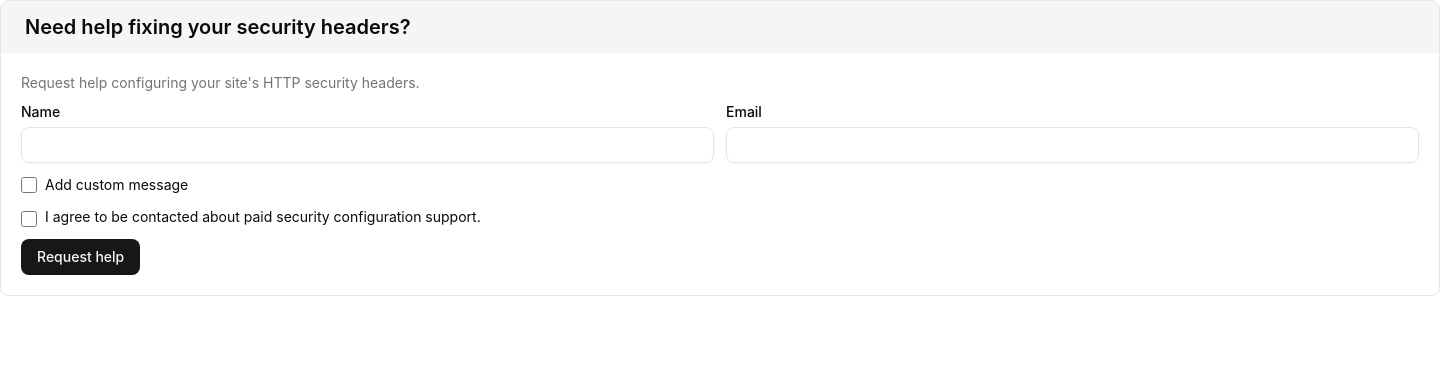
Test: LeadForm › shows field-specific errors for required name, email, and consent
The image size is (1440, 369).
Click the button "Request help".
click(81, 257)  # box [21,239,140,275]
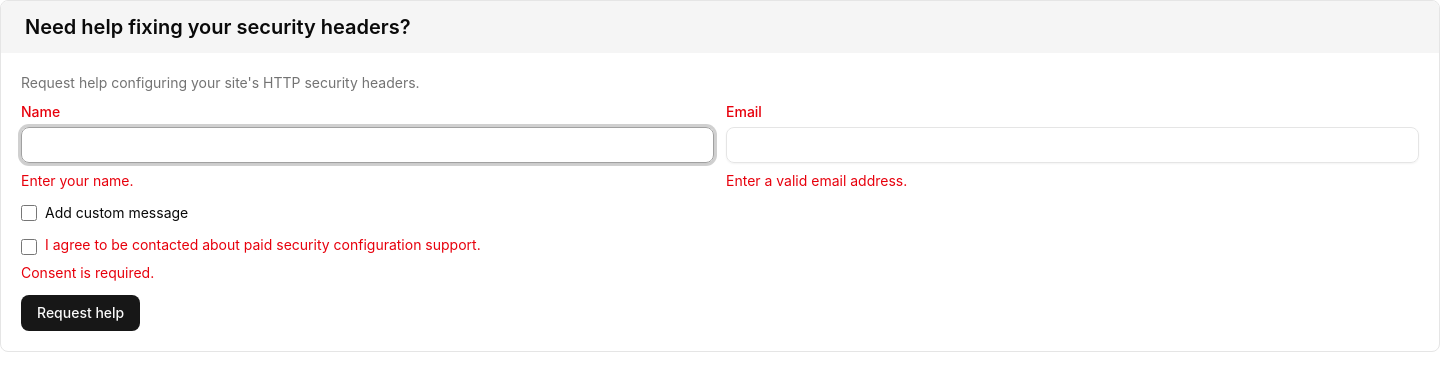
expect the text "Enter your name." is shown: met, box [21,172,134,189]
expect the text "Enter a valid email address." is shown: met, box [726,172,907,189]
expect the text "Consent is required." is shown: met, box [21,264,154,281]
